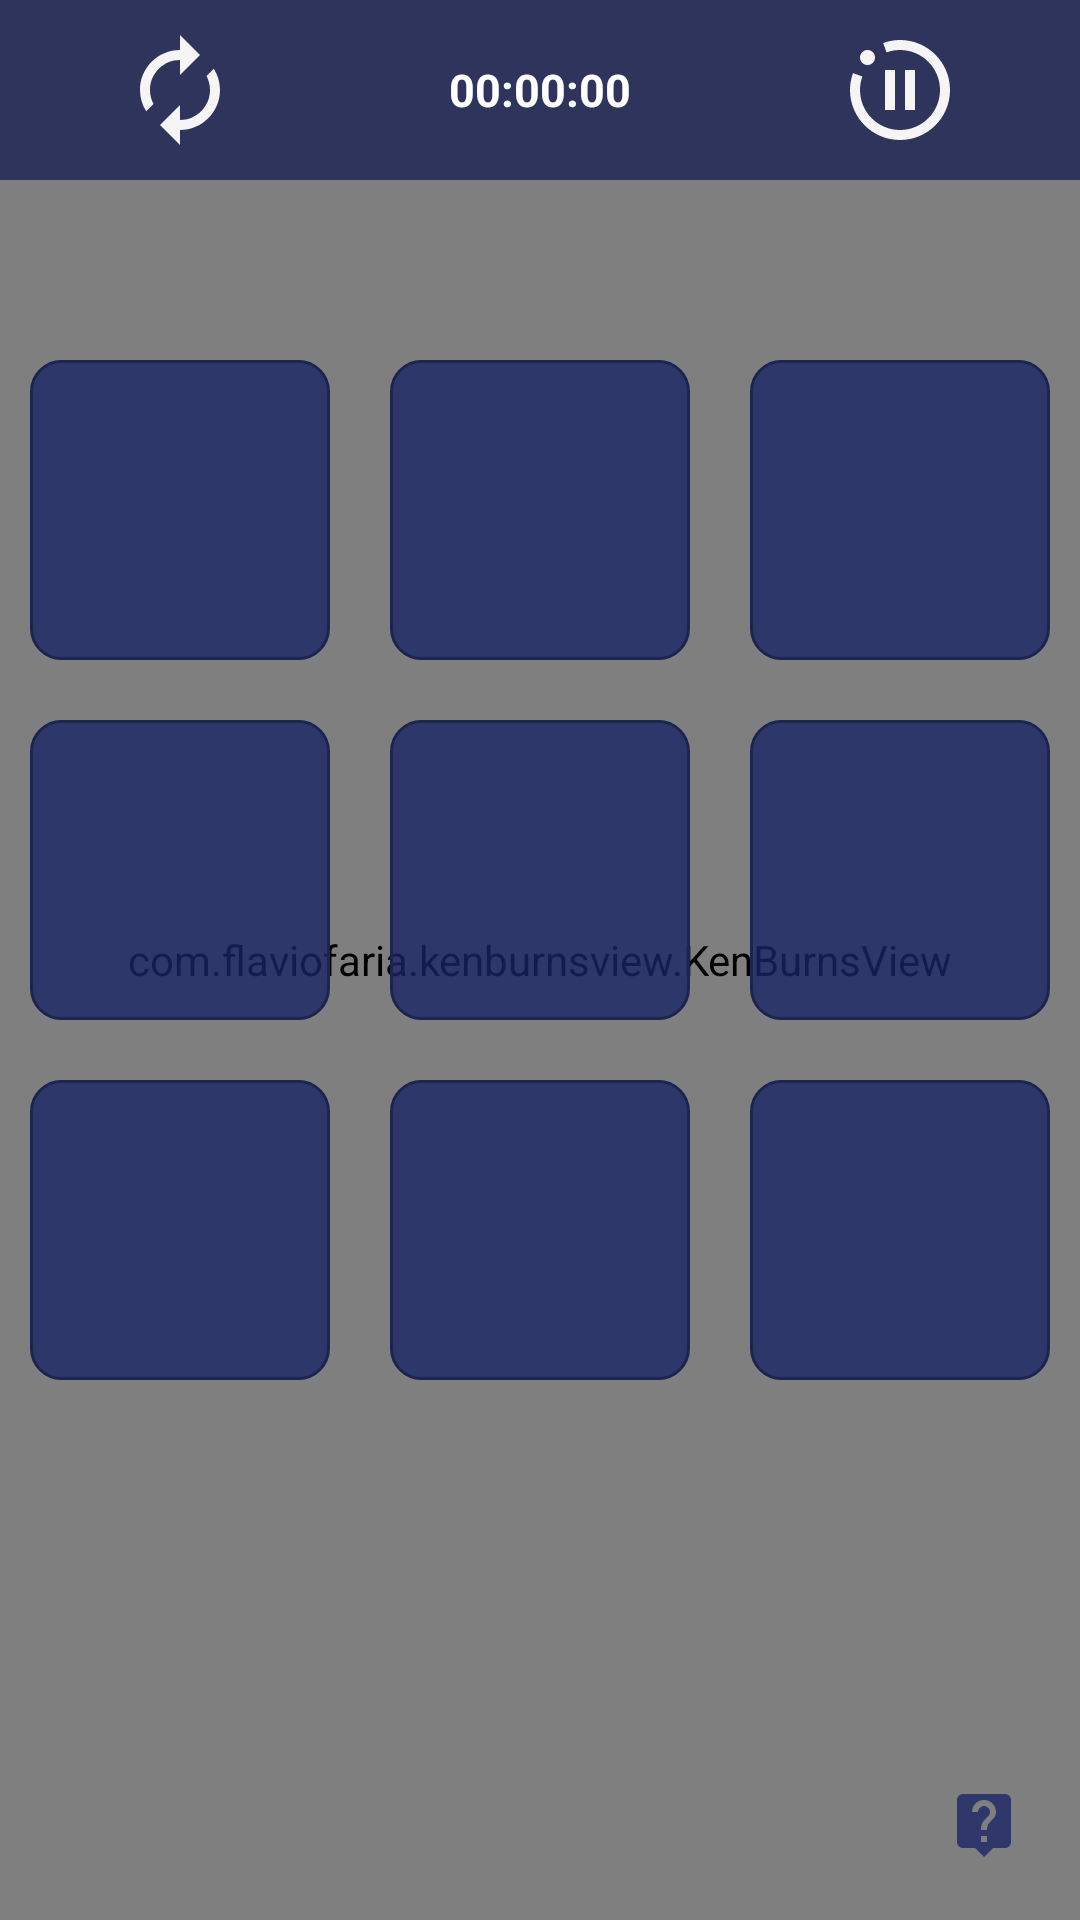

Icon bounding boxes for this 1080px x 1920px phone screenshot, format {"left": x1, "top": y1, "right": x2, "bottom": y2}:
Help: {"left": 957, "top": 1794, "right": 1011, "bottom": 1857}
replay: {"left": 140, "top": 35, "right": 220, "bottom": 145}
